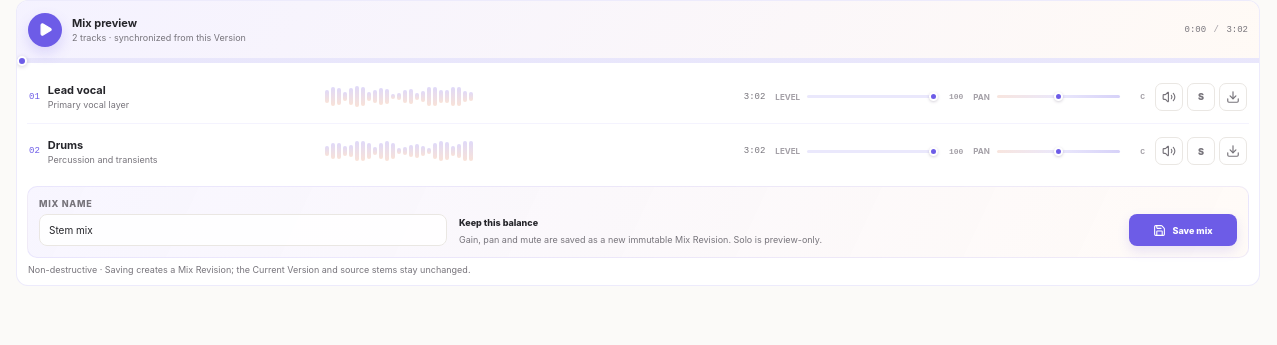
Test: Studio stem mixer › reports a real playback failure without replacing the audio
Step 1. Click the button named "Play stem mix" → coordinates (45, 30), box left=28, top=12, right=62, bottom=46
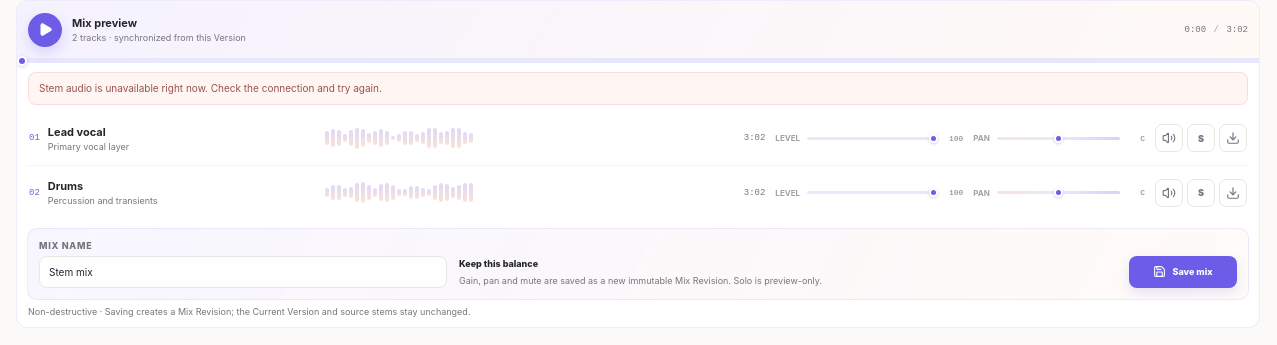
Now the message reads "Stem audio is unavailable right now. Check the connection and try again.", box left=39, top=82, right=382, bottom=94
